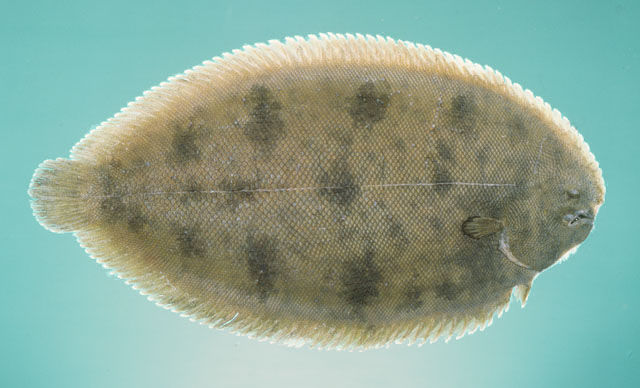fish: (31, 31, 606, 351)
